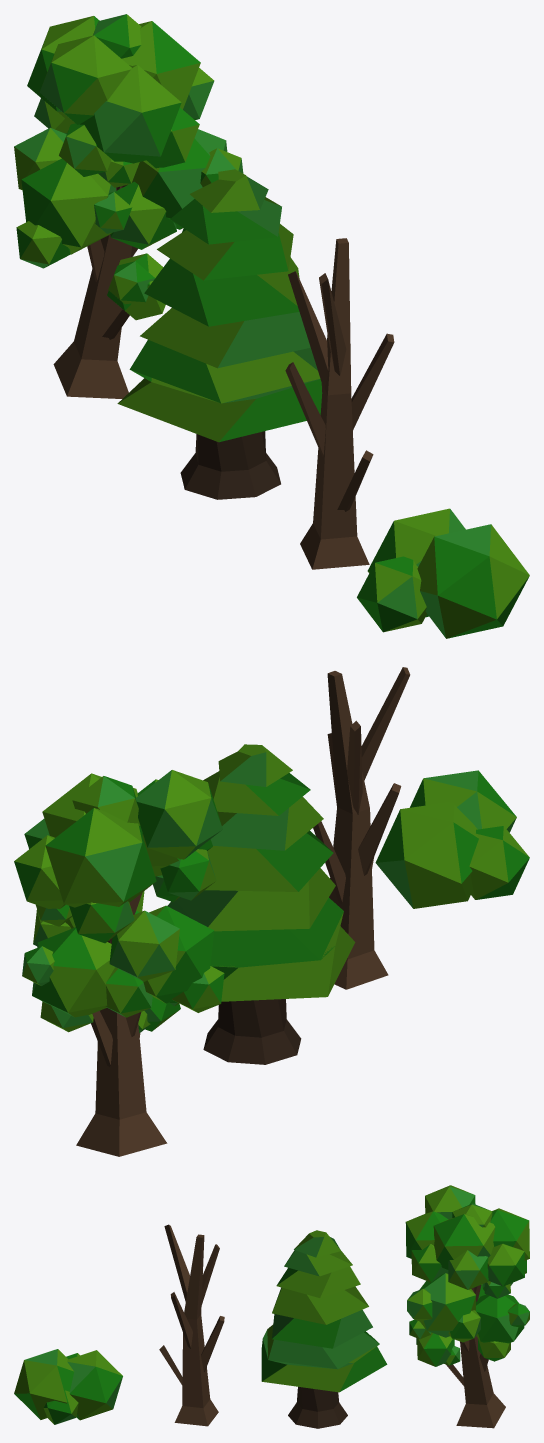
Rendered from uploads_files_3254031_lowpoly+Tree+package.fbx.
3 renders of one model, top to bottom at view 1: azimuth 30°, elevation 25°; view 2: azimuth 150°, elevation 25°; view 3: azimuth 270°, elevation 25°, orthographic. The views are drawn at different scales.
Parts seen in each view (by area): view 1: t4, t3, t1, t2; view 2: t4, t3, t1, t2; view 3: t4, t3, t1, t2.
Part boxes in pixels (<box>): t4: <box>14,14,243,398</box>; t3: <box>117,169,322,499</box>; t1: <box>357,508,529,638</box>; t2: <box>285,238,394,569</box>; t4: <box>14,770,224,1156</box>; t3: <box>167,744,355,1064</box>; t1: <box>375,770,529,908</box>; t2: <box>313,667,410,989</box>; t4: <box>405,1185,529,1428</box>; t3: <box>261,1230,387,1428</box>; t1: <box>14,1349,122,1424</box>; t2: <box>159,1224,224,1426</box>.
Bounding box in the file's own units: 375 × 687 × 1417.
